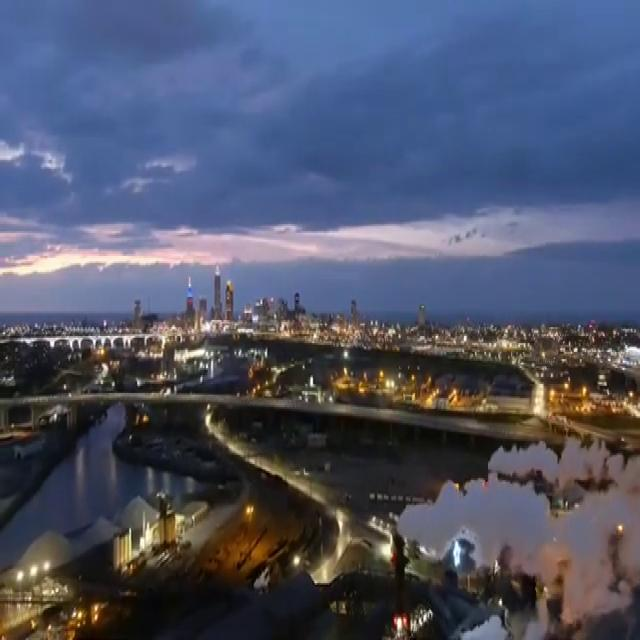smoke: (397, 482, 555, 578), (557, 501, 637, 635), (488, 430, 629, 498)
